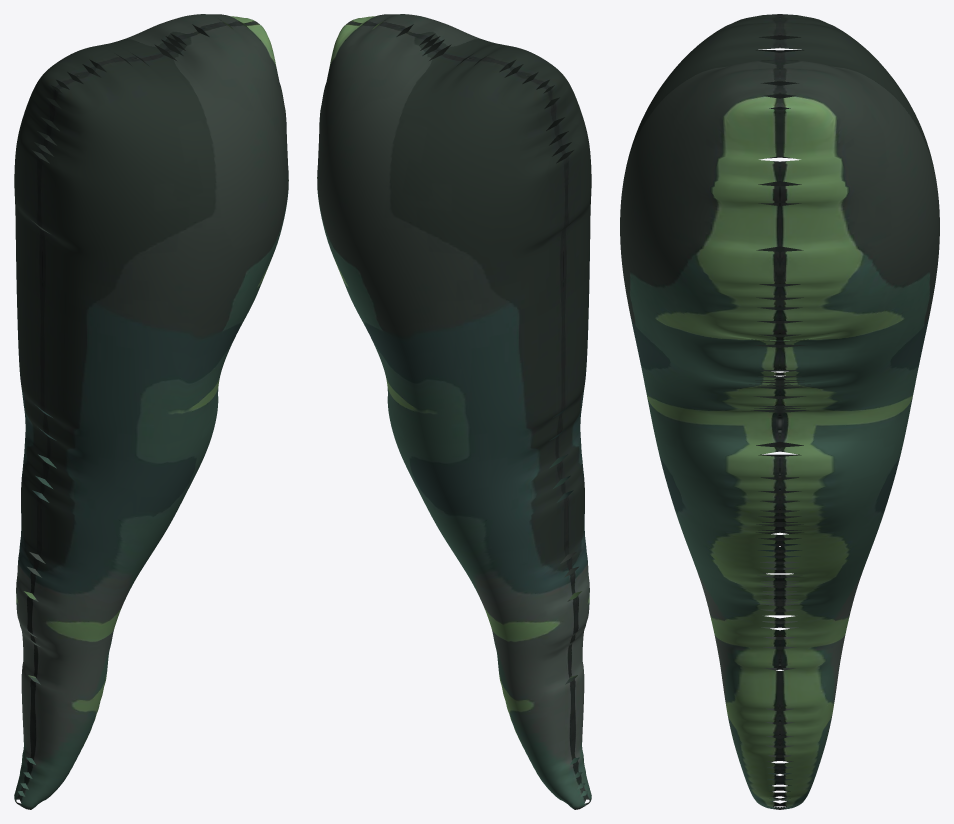
The model's file is green_cliff.glb.
3 renders of one model, left to right at view 1: azimuth 30°, elevation 25°; view 2: azimuth 150°, elevation 25°; view 3: azimuth 270°, elevation 25°, orthographic. The views are drawn at different scales.
Visible parts, largest first — view 1: green_cliff; view 2: green_cliff; view 3: green_cliff.
Part boxes in pixels (x1,y1,x2,y2): green_cliff: (14,14,288,809); green_cliff: (317,14,591,809); green_cliff: (620,14,939,809).
Size of the model in its own units: 0.9678 by 2.72 by 0.9415.
1 material, 1 textured.
